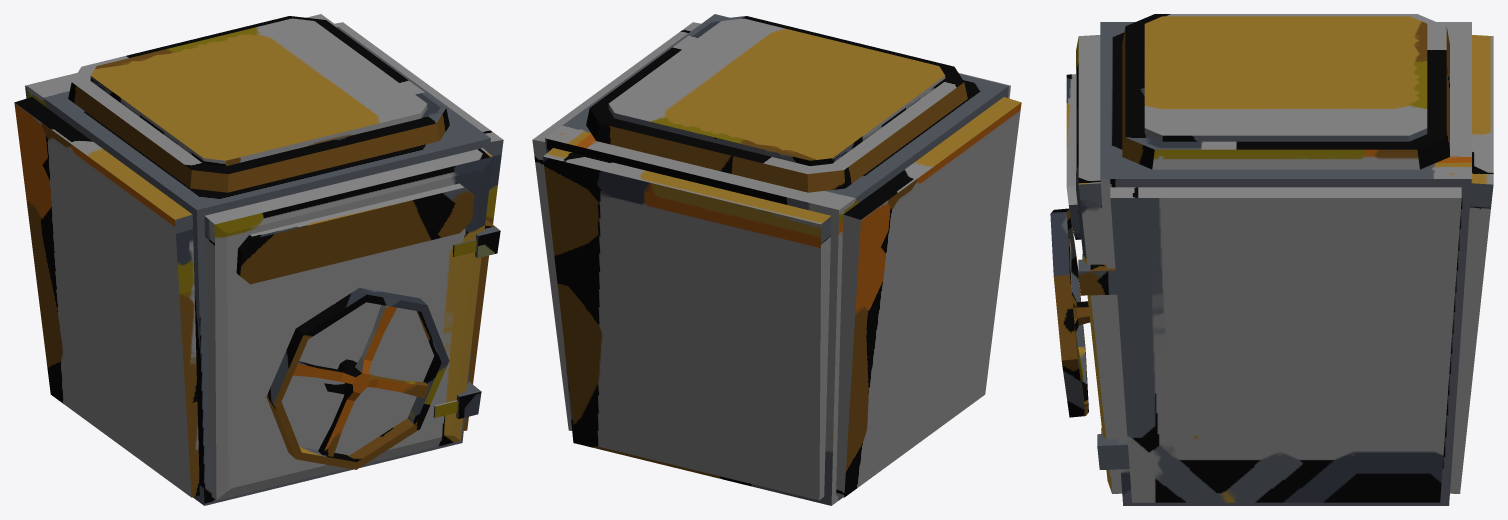
Rendered from yinhang.fbx.
3 views of the same model, side by side, from view 1: azimuth 30°, elevation 25°; view 2: azimuth 150°, elevation 25°; view 3: azimuth 270°, elevation 25° (orthographic). The views are drawn at different scales.
Visible parts, largest first — view 1: Cube.005; view 2: Cube.005; view 3: Cube.005.
Boxes of the visible parts, box(x1,y1,x2,y2) form: Cube.005: box(14, 14, 503, 505); Cube.005: box(532, 14, 1021, 505); Cube.005: box(1050, 14, 1493, 505).
Bounding box in the file's own units: 220 × 211 × 235.
